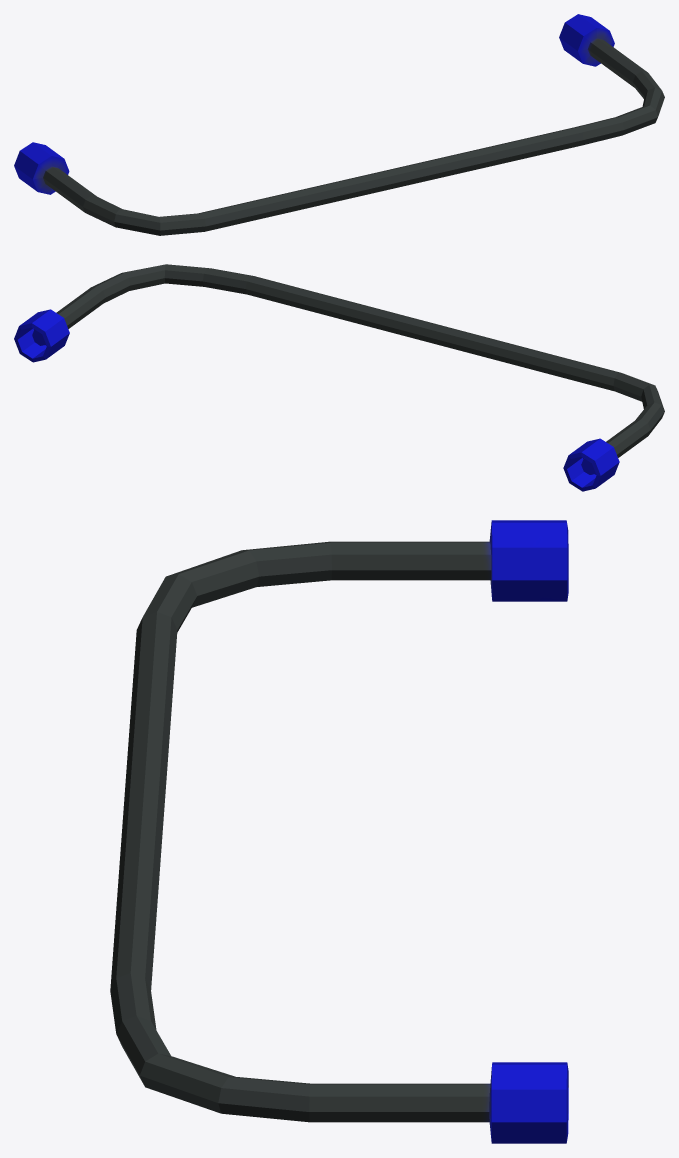
The model's file is Blue_tube.fbx.
3 views of the same model, one above another, from view 1: azimuth 30°, elevation 25°; view 2: azimuth 150°, elevation 25°; view 3: azimuth 270°, elevation 25° (orthographic). The views are drawn at different scales.
Visible parts, largest first — view 1: Blue_Tube; view 2: Blue_Tube; view 3: Blue_Tube.
Part boxes in pixels (box(x1,y1,x2,y2)): Blue_Tube: box(14, 14, 664, 235); Blue_Tube: box(14, 264, 664, 491); Blue_Tube: box(110, 520, 568, 1143).
Bounding box in the file's own units: 9.03 × 0.6469 × 3.08.
